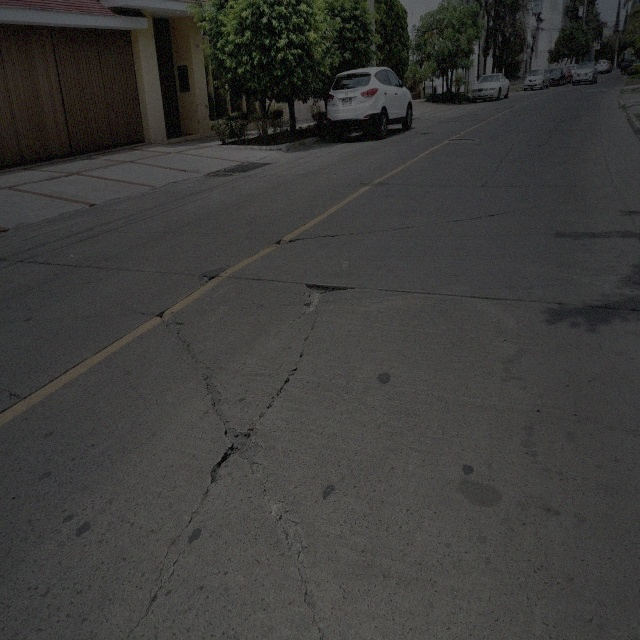pothole: (214, 417, 260, 480), (300, 281, 349, 319)
